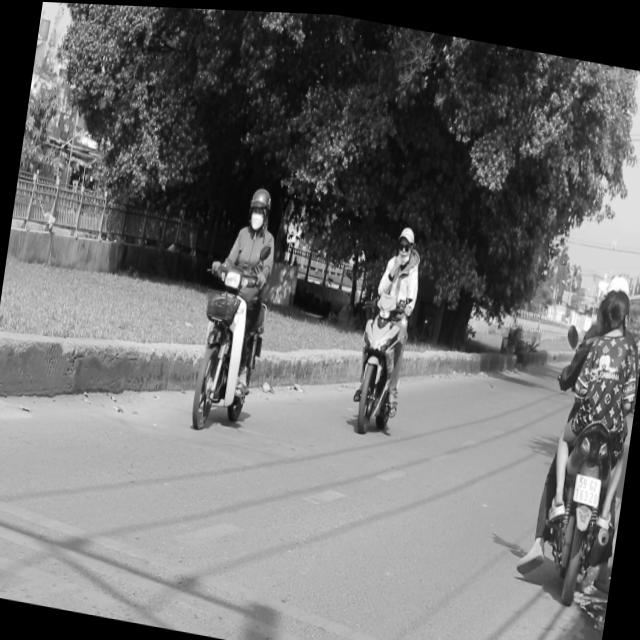helmet: (244, 182, 273, 230), (394, 219, 416, 262)
licenseplate: (518, 257, 640, 601), (181, 173, 289, 435), (343, 213, 426, 436)
motorcyclist: (596, 278, 632, 338)
nohelmet: (571, 466, 601, 500)
